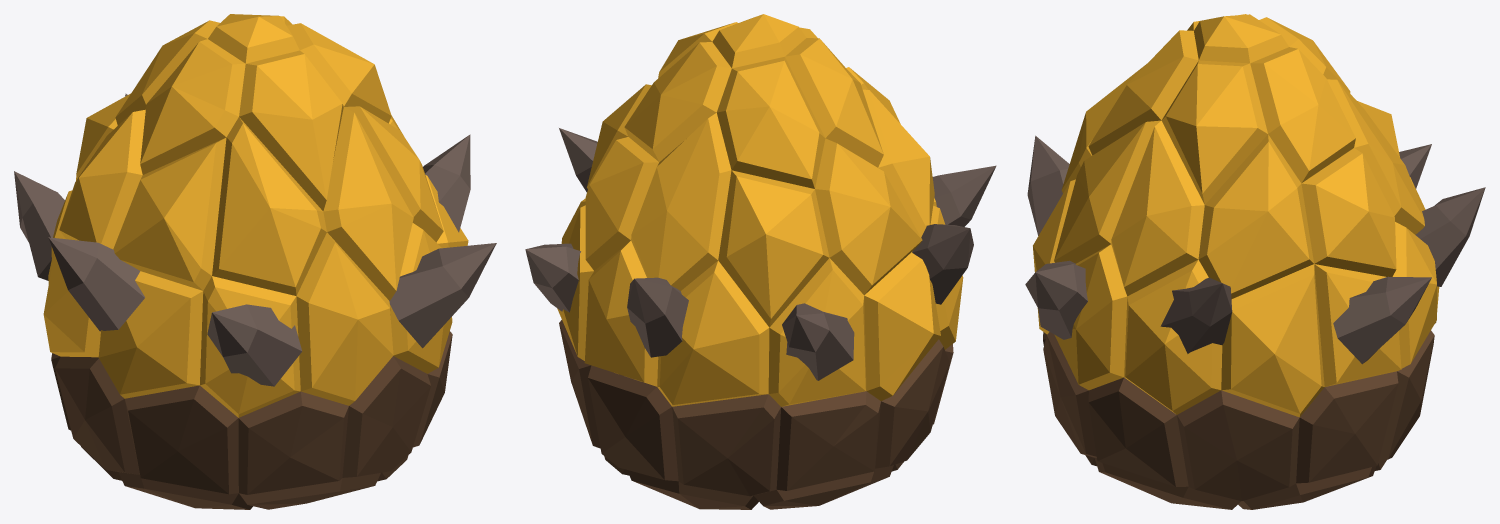
Rendered from amber_egg.glb.
3 views of the same model, side by side, from view 1: azimuth 30°, elevation 25°; view 2: azimuth 150°, elevation 25°; view 3: azimuth 270°, elevation 25° (orthographic). The views are drawn at different scales.
Parts seen in each view (by area): view 1: egg; view 2: egg; view 3: egg.
Part boxes in pixels (<box>): egg: <box>14,14,496,509</box>; egg: <box>525,14,996,509</box>; egg: <box>1025,14,1485,509</box>.
Bounding box in the file's own units: 1.94 × 2.06 × 1.86.
